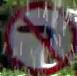Don't turn left: (4, 2, 76, 75)
